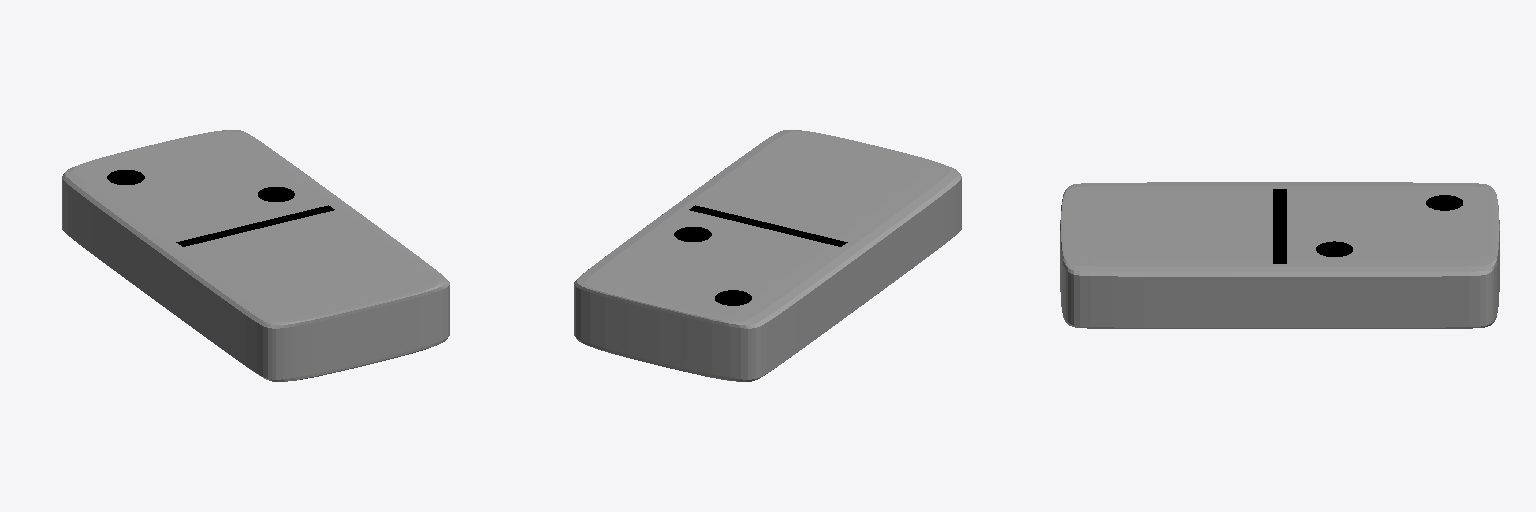
3 views of the same model, side by side, from view 1: azimuth 30°, elevation 25°; view 2: azimuth 150°, elevation 25°; view 3: azimuth 270°, elevation 25° (orthographic).
Parts seen in each view (by area): view 1: Domino_1-2_Cube.001; view 2: Domino_1-2_Cube.001; view 3: Domino_1-2_Cube.001.
Part boxes in pixels (left/top/right/bottom): Domino_1-2_Cube.001: left=62, top=130, right=449, bottom=381; Domino_1-2_Cube.001: left=574, top=130, right=961, bottom=381; Domino_1-2_Cube.001: left=1060, top=182, right=1499, bottom=328.
Bounding box in the file's own units: 2 × 0.5993 × 3.99.